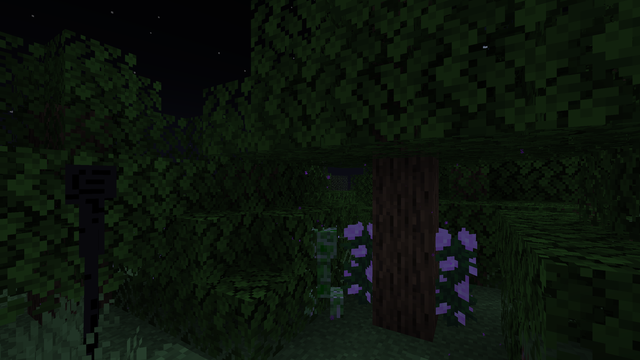creepers: (315, 223, 343, 321)
endermens: (54, 157, 127, 359)
